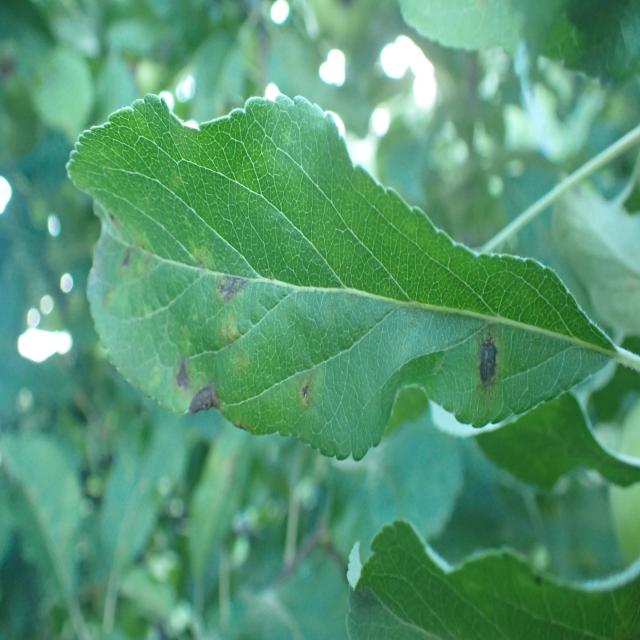scab: (88, 181, 538, 455)
